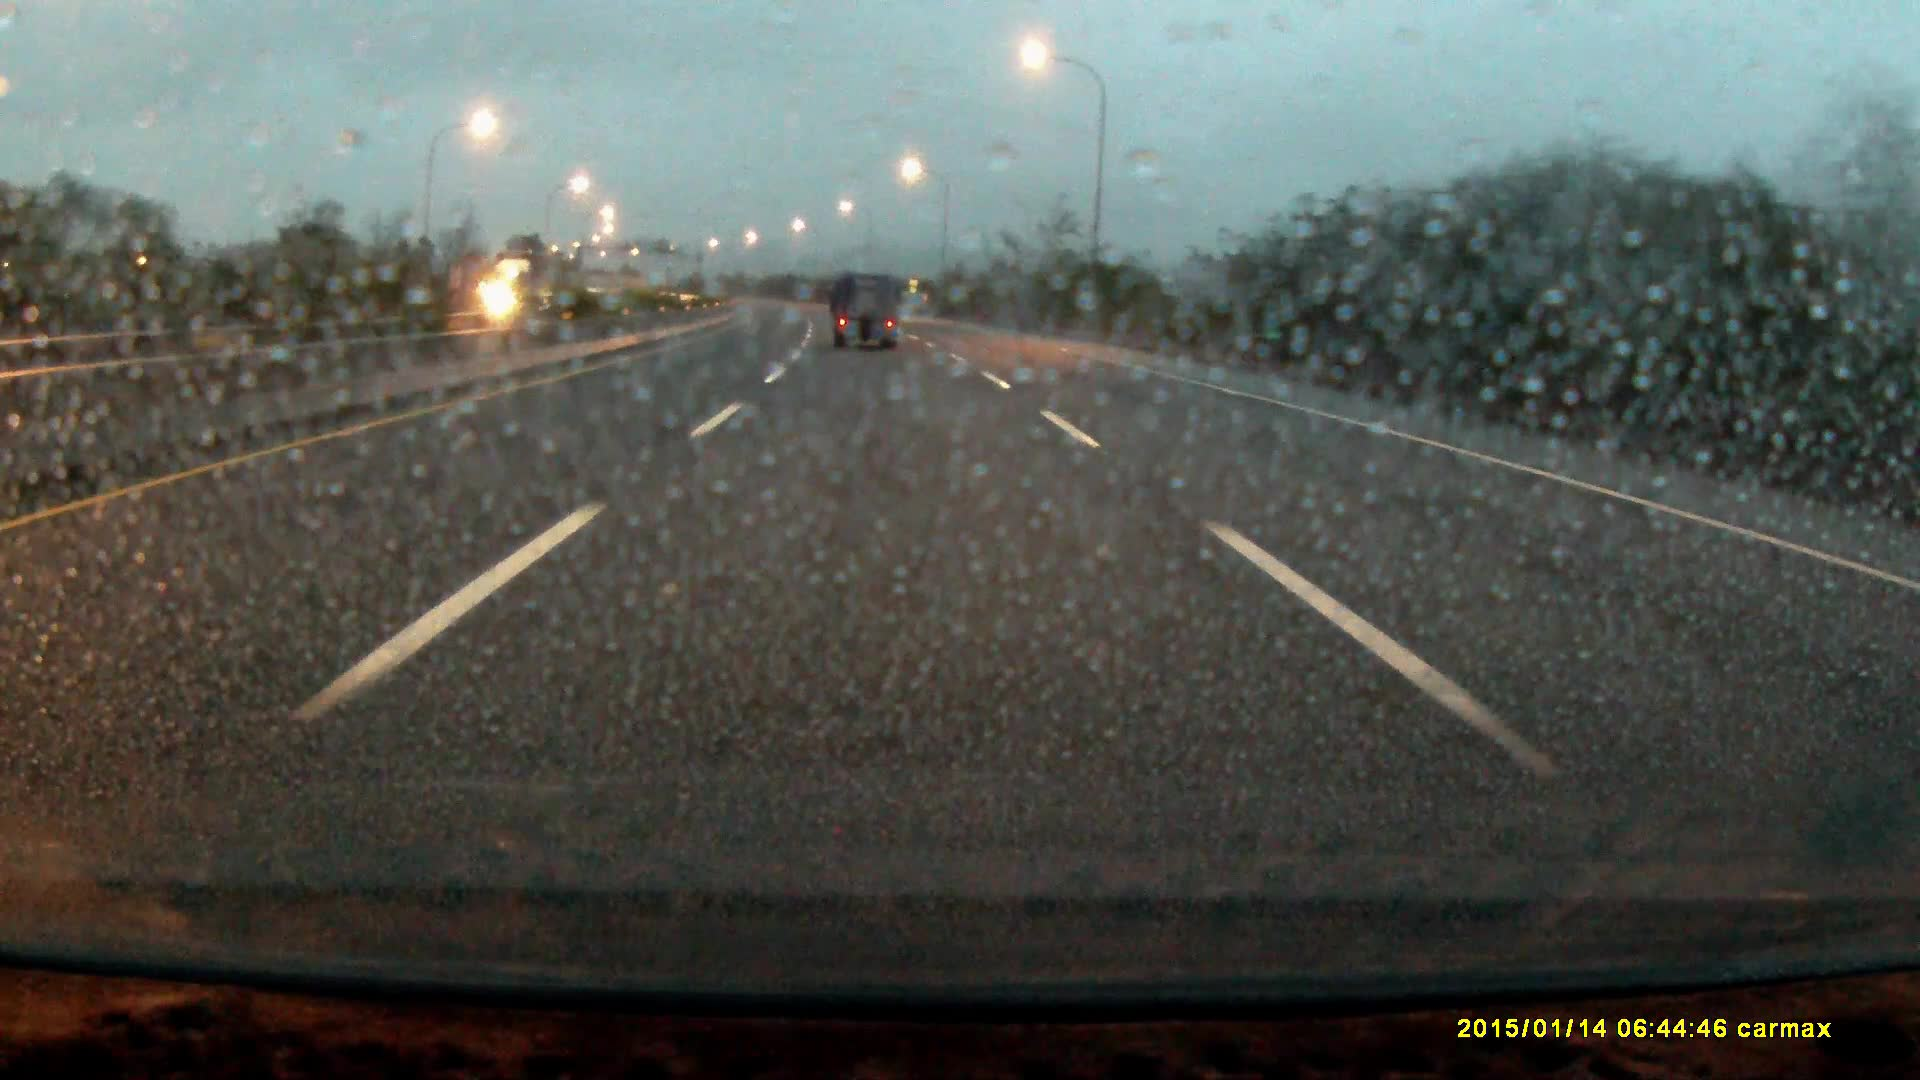vehicle: (477, 252, 574, 328), (832, 272, 903, 351)
